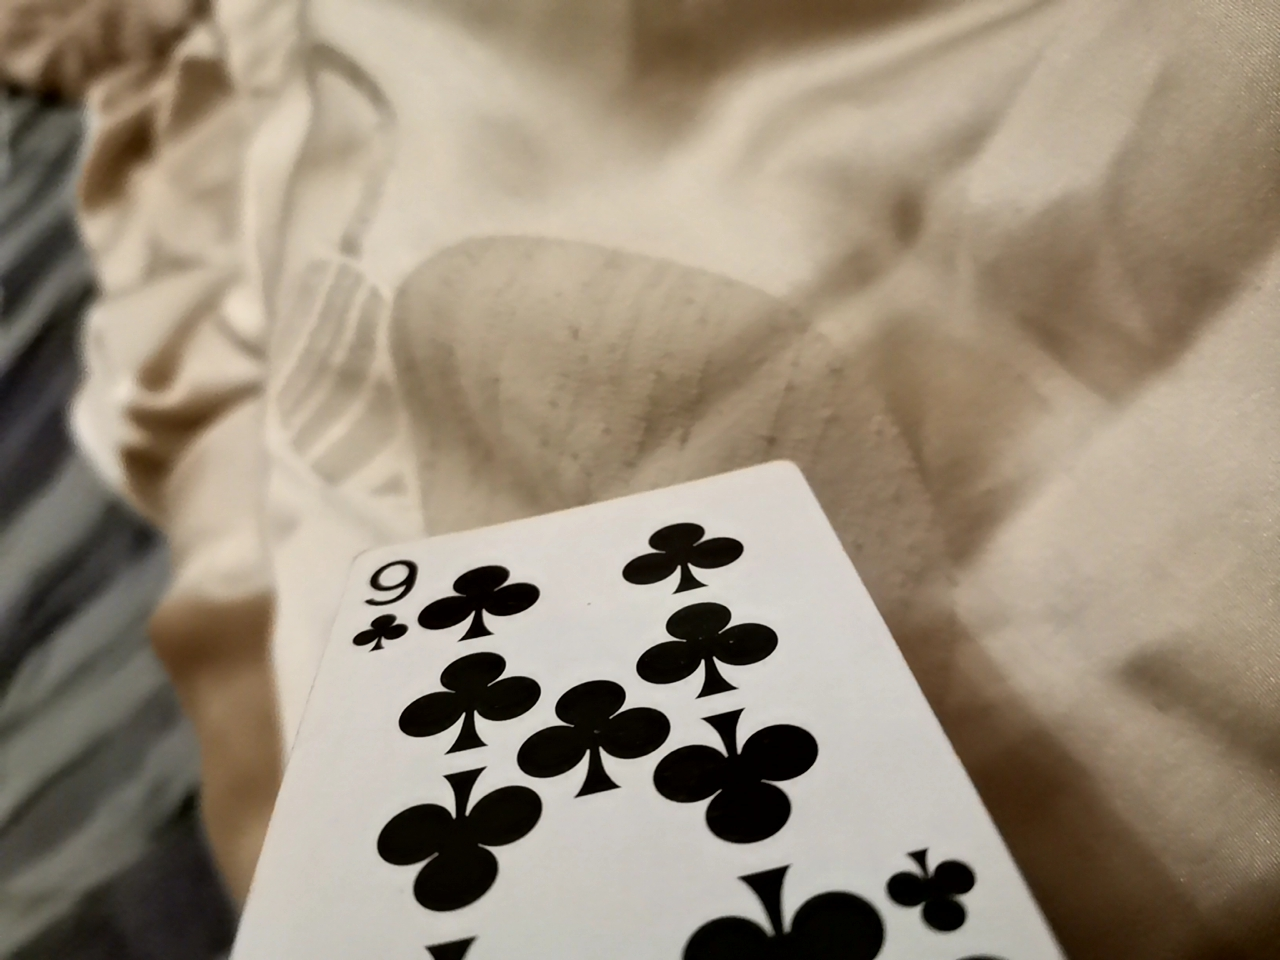mh 9: (193, 414, 1078, 960)
